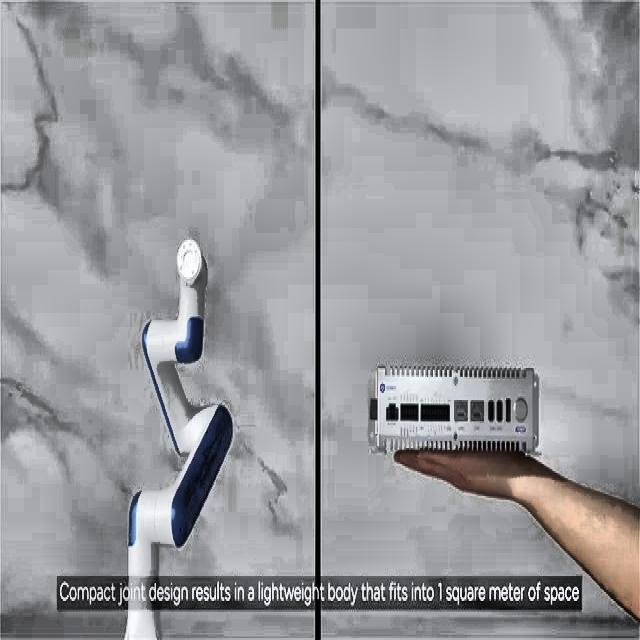robot: (123, 236, 233, 636)
